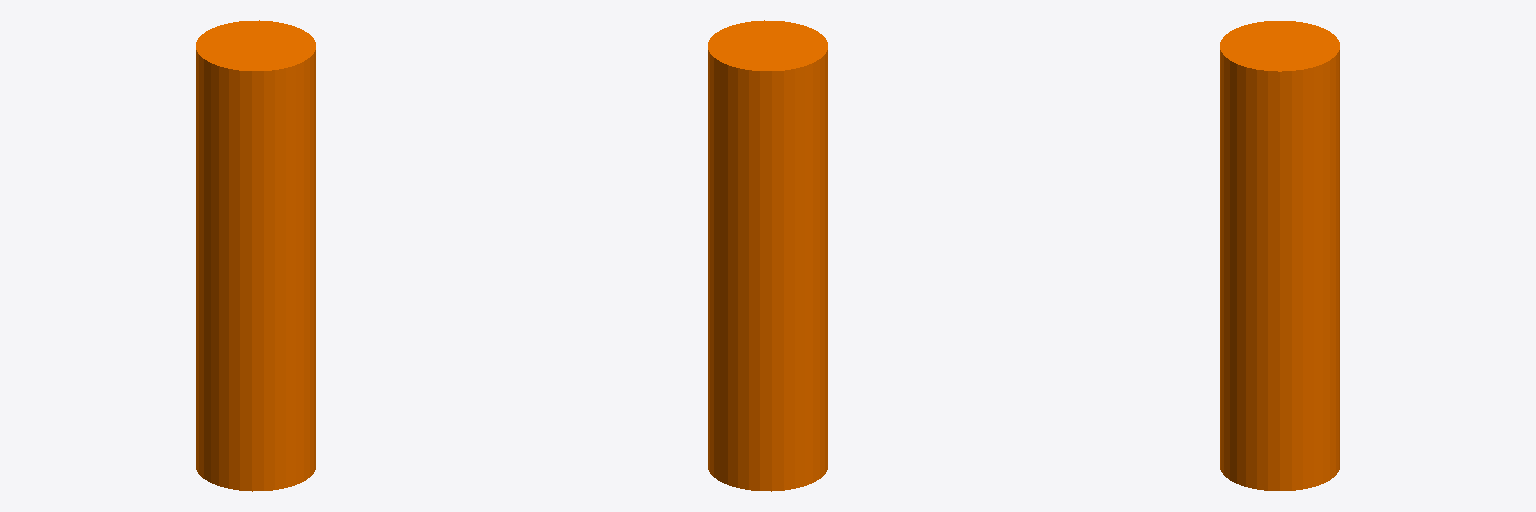
The robot description file, URDF, robot "cylinder":
<?xml version='1.0' encoding='UTF-8'?>
<robot name="cylinder">
  <link name="base_link">
    <inertial>
      <origin xyz="0.0 0.0 0.0" rpy="0.0 -0.0 0.0"/>
      <mass value="1.0"/>
      <inertia ixx="1.0" ixy="0.0" ixz="0.0" iyy="1.0" iyz="0.0" izz="1.0"/>
    </inertial>
    <visual>
      <geometry>
        <cylinder length="4.6" radius="0.6"/>
      </geometry>
      <material name="orange">
        <color rgba="1.0 0.5 0.0 1.0"/>
      </material>
      <origin xyz="0 0 1.0" rpy="0 0 0"/>
    </visual>
    <collision>
      <geometry>
        <cylinder length="4.6" radius="0.6"/>
      </geometry>
      <origin xyz="0 0 1.0" rpy="0 0 0"/>
    </collision>
  </link>
</robot>

--- Render facts (derived) ---
The picture shows the robot from 3 angles, left to right: view 1: azimuth 30°, elevation 25°; view 2: azimuth 150°, elevation 25°; view 3: azimuth 270°, elevation 25°; orthographic projection.
Model cylinder with 1 links and 0 joints (none), rooted at base_link, posed every joint at zero.
Visible links, largest first — view 1: base_link; view 2: base_link; view 3: base_link.
Link boxes in pixels (box(x1,y1,x2,y2)): base_link: box(196, 20, 315, 491); base_link: box(708, 20, 827, 491); base_link: box(1220, 21, 1339, 490).
Bounding box of the posed robot: 1.2 × 1.2 × 4.6 m (x, y, z).
Geometry: primitives only (box / cylinder / sphere), no mesh files.